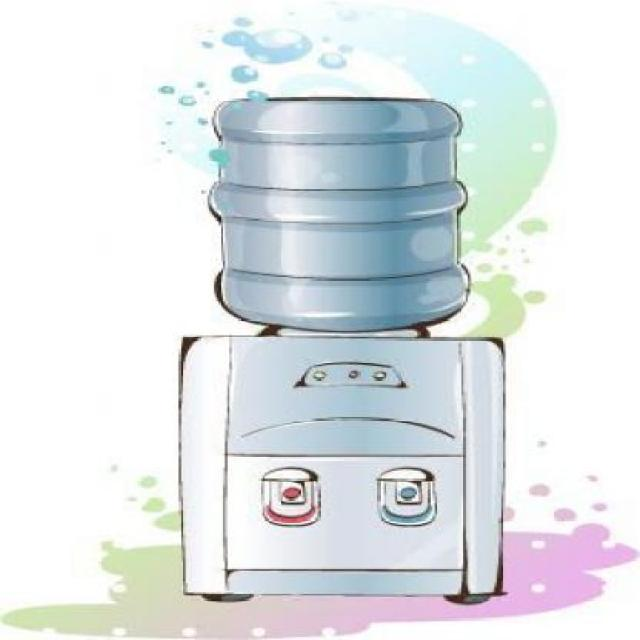cooler: (178, 92, 508, 608)
